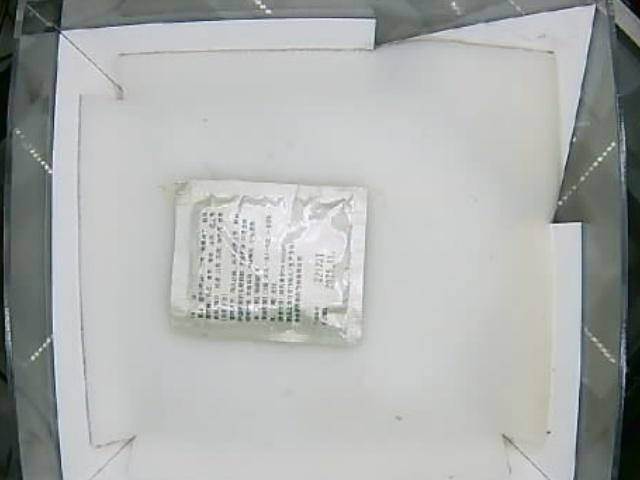Medicine: (170, 178, 363, 345)
